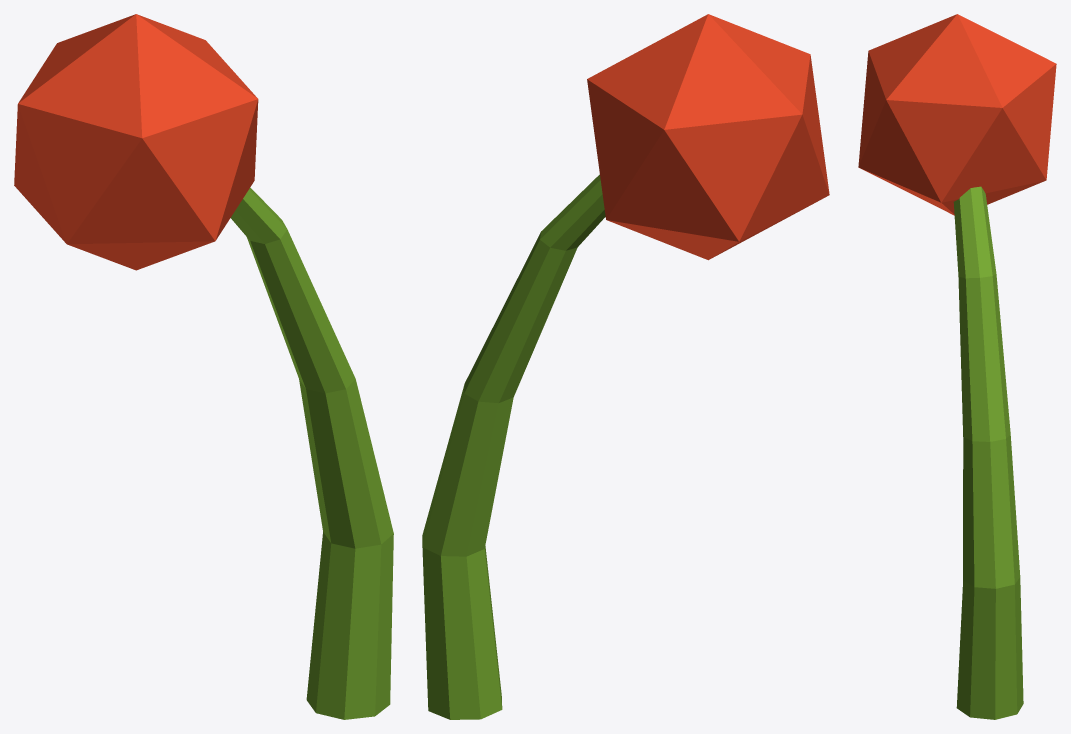
The model's file is Natures2f1.fbx.
The picture shows the model from 3 angles, left to right: view 1: azimuth 30°, elevation 25°; view 2: azimuth 150°, elevation 25°; view 3: azimuth 270°, elevation 25°; orthographic projection. The views are drawn at different scales.
Parts seen in each view (by area): view 1: f1; view 2: f1; view 3: f1.
Boxes of the visible parts, box(x1,y1,x2,y2) form: f1: box(14, 14, 393, 719); f1: box(422, 14, 829, 719); f1: box(858, 14, 1056, 719).
Size of the model in its own units: 60.43 by 115 by 34.3.
